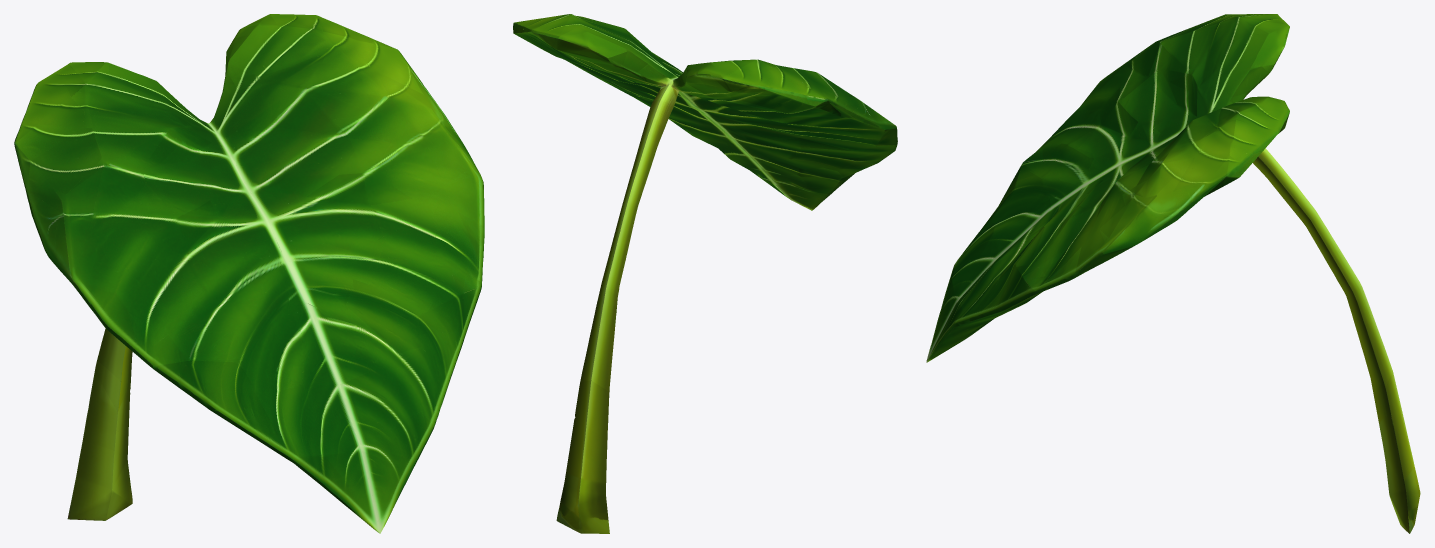
File: pp_leaf_young_plain.glb
3 views of the same model, side by side, from view 1: azimuth 30°, elevation 25°; view 2: azimuth 150°, elevation 25°; view 3: azimuth 270°, elevation 25° (orthographic). The views are drawn at different scales.
Bounding box in the file's own units: 1.57 × 1.9 × 1.85.
1 material, 1 textured.
